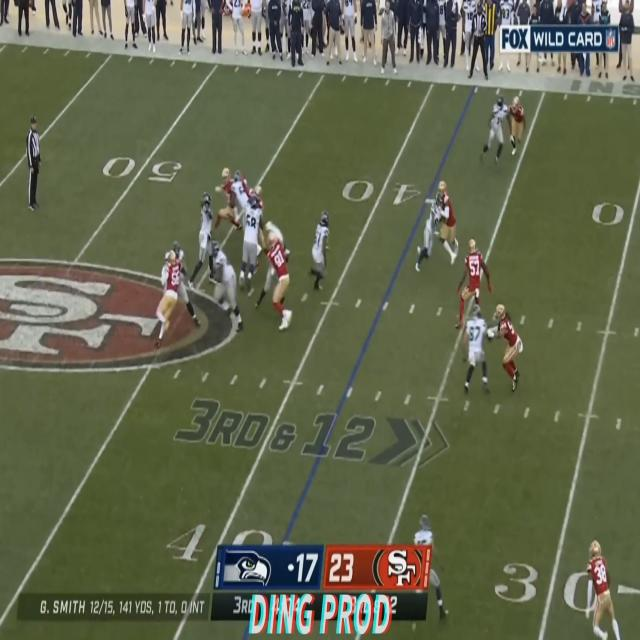players: (409, 512, 448, 628), (149, 247, 192, 349), (256, 229, 296, 333), (584, 542, 622, 640), (456, 237, 493, 333), (238, 184, 265, 301), (492, 302, 524, 396), (414, 192, 450, 275), (190, 192, 218, 294), (211, 242, 244, 328), (428, 181, 459, 272), (482, 90, 516, 172), (462, 310, 492, 398), (309, 208, 335, 299), (506, 91, 531, 165)
